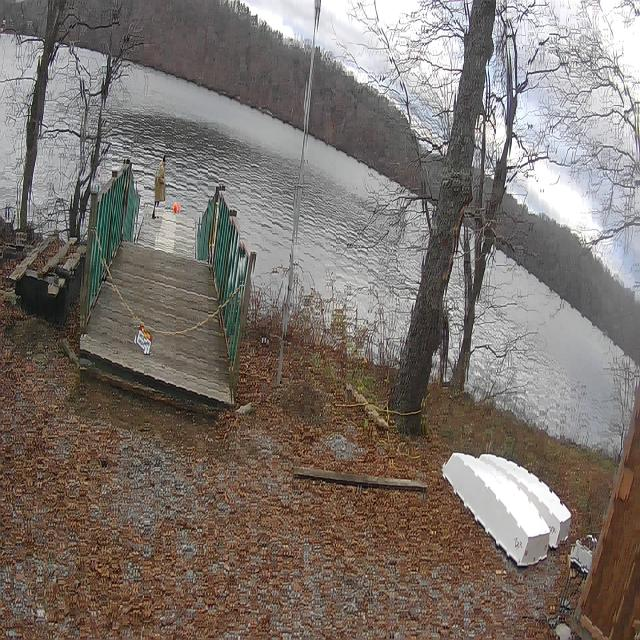Buoy: (170, 198, 183, 217)
